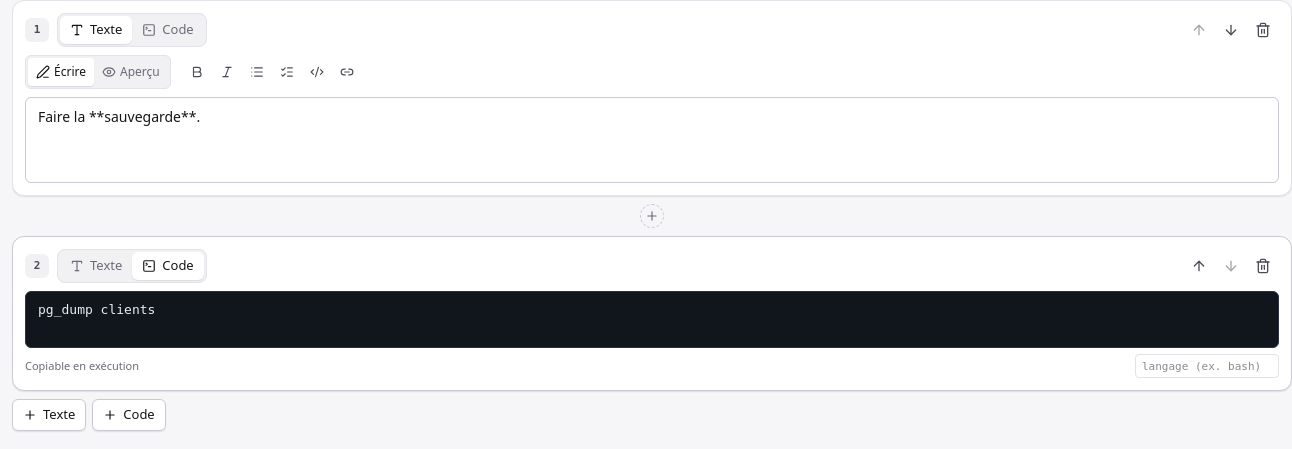
Scenario: EditeurBlocs › découpe la valeur en blocs Texte et Code ; l’onglet Aperçu rend le markdown
Expected: the text box named "Instructions, bloc 1 (texte)" holds "Faire la **sauvegarde**.", [25,97,1279,183]
Expected: the text box named "Instructions, bloc 2 (code)" holds "pg_dump clients", [25,291,1279,348]
Click the tab "Aperçu". click: coordinates (131, 72)
box: [94,58,168,86]
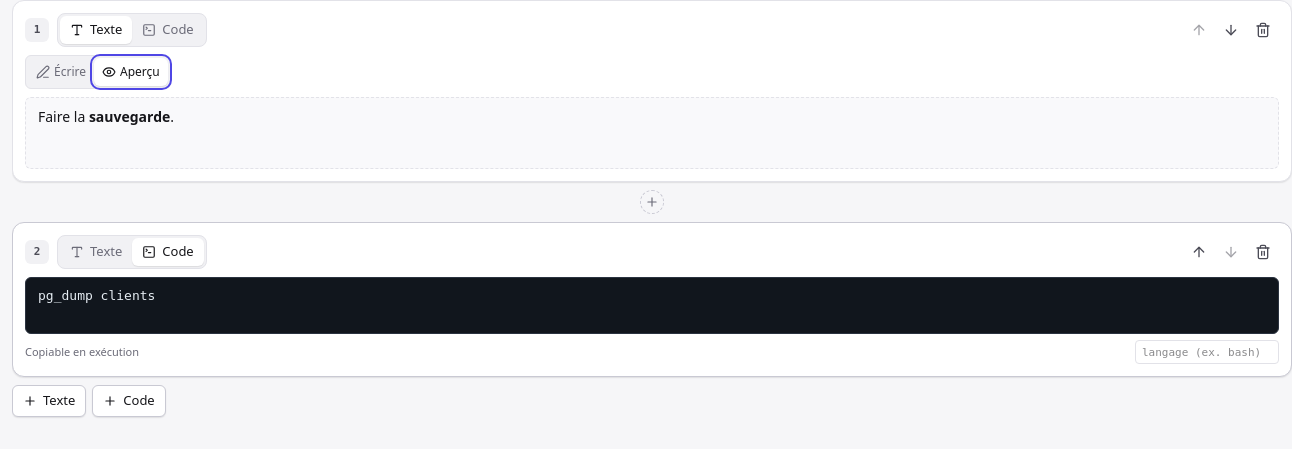
Expected: the text "sauvegarde" is shown, [89,107,170,126]
